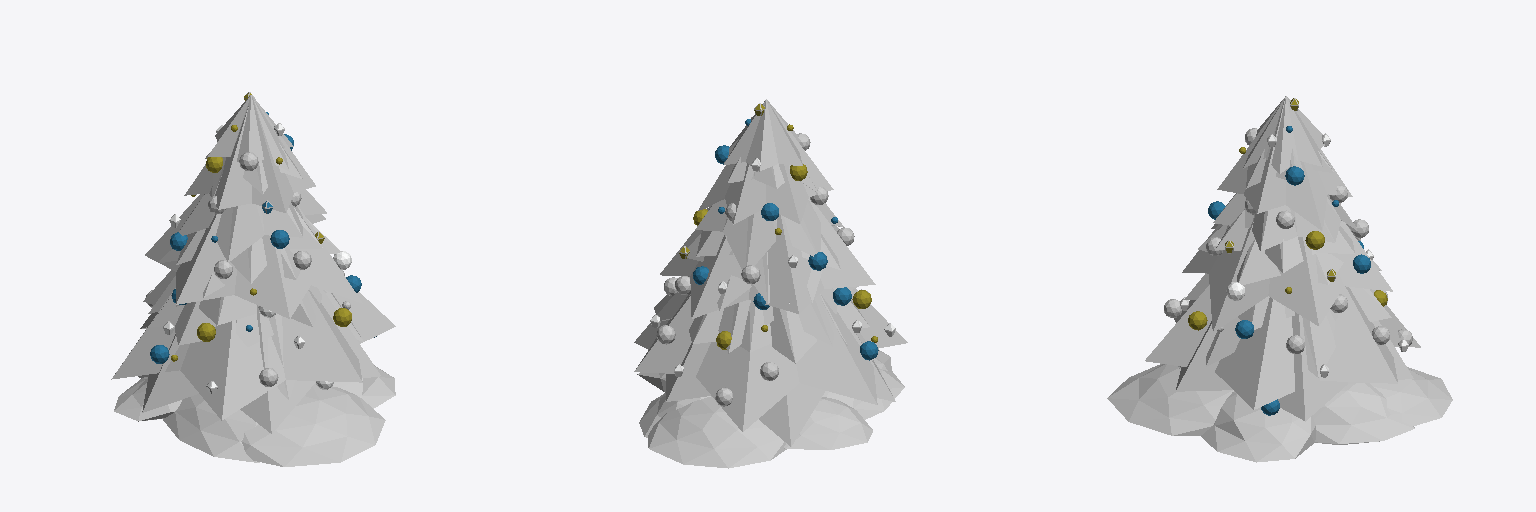
3 renders of one model, left to right at view 1: azimuth 30°, elevation 25°; view 2: azimuth 150°, elevation 25°; view 3: azimuth 270°, elevation 25°, orthographic.
Visible parts, largest first — view 1: Tree_E, Icosphere.184; view 2: Tree_E, Icosphere.184; view 3: Tree_E, Icosphere.184.
Part boxes in pixels (x1,y1,x2,y2): Tree_E: (111, 95, 395, 433); Icosphere.184: (114, 365, 395, 466); Tree_E: (634, 99, 907, 446); Icosphere.184: (637, 349, 904, 468); Tree_E: (1145, 96, 1420, 421); Icosphere.184: (1107, 364, 1452, 462).
Bounding box in the file's own units: 4.37 × 5.24 × 5.15.
Materials: 7 (3 with a texture image).